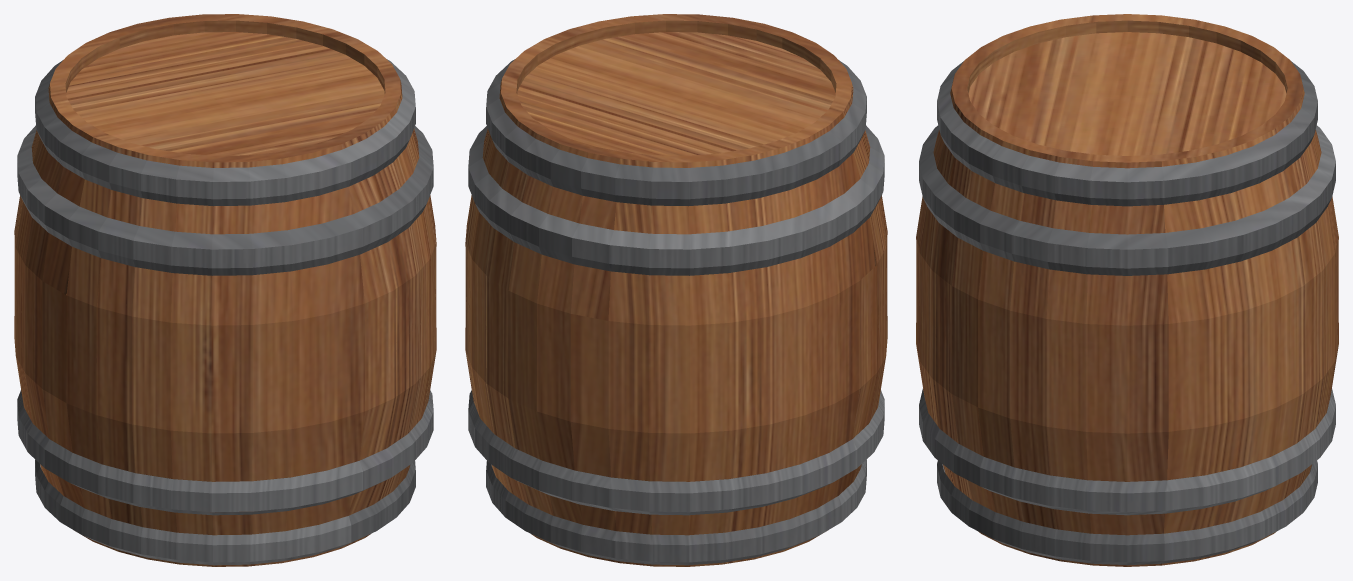
File: Barrle forest.fbx
3 renders of one model, left to right at view 1: azimuth 30°, elevation 25°; view 2: azimuth 150°, elevation 25°; view 3: azimuth 270°, elevation 25°, orthographic.
Parts seen in each view (by area): view 1: Cylinder.010; view 2: Cylinder.010; view 3: Cylinder.010.
Boxes of the visible parts, left/top/right/bottom form: Cylinder.010: left=14, top=14, right=436, bottom=566; Cylinder.010: left=465, top=14, right=887, bottom=566; Cylinder.010: left=916, top=14, right=1338, bottom=566.
Bounding box in the file's own units: 240 × 254 × 240.
